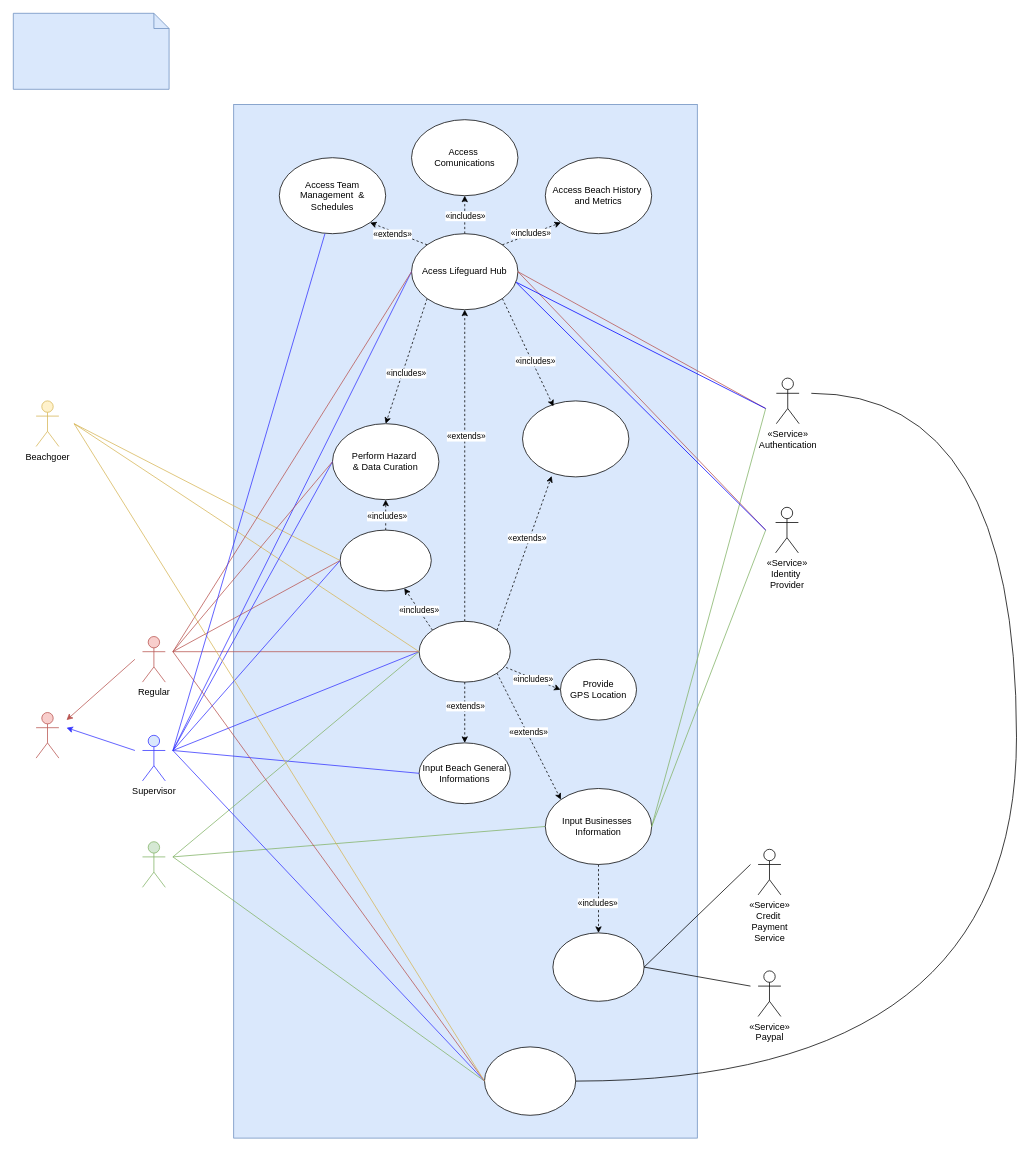
Image size: 1030x1151. Some labels were removed from this diagram. Each missing label, with the box of its shape:
Access Map Extended View: (522, 400, 629, 477)
Acess Client Register: (484, 1046, 576, 1115)
Acess Interactive Map: (418, 621, 510, 682)
Beach Business Owner: (142, 841, 165, 887)
Checkout: (552, 932, 644, 1001)
Lifeguard: (35, 712, 59, 758)
Report hazard: (339, 529, 431, 591)
SPLASH Grupo 14 (JPNV) V2024/11/09: (13, 13, 169, 89)
